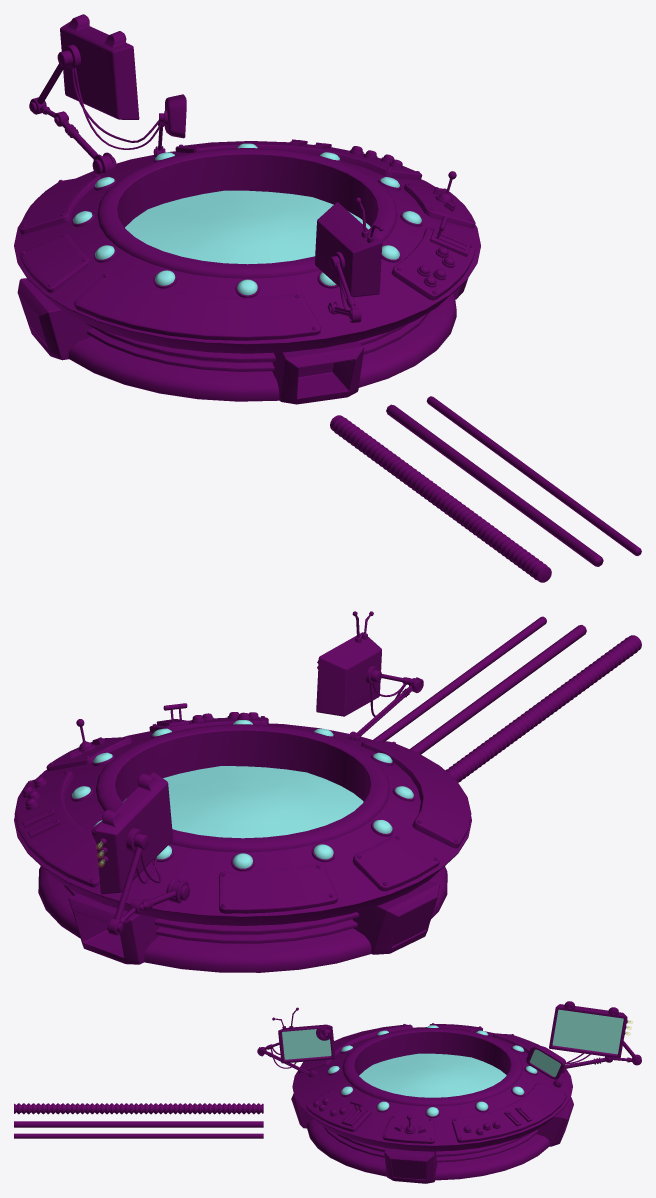
The model's file is holotable.fbx.
3 views of the same model, one above another, from view 1: azimuth 30°, elevation 25°; view 2: azimuth 150°, elevation 25°; view 3: azimuth 270°, elevation 25° (orthographic). The views are drawn at different scales.
Visible parts, largest first — view 1: hologram_console, hologram_console_center_light, monitor_02, ribbed_cable, monitor_01, medium_cable, small_cable, hologram_console_small_lights, monitor_03; view 2: hologram_console, hologram_console_center_light, monitor_02, ribbed_cable, monitor_01, medium_cable, small_cable, hologram_console_small_lights, arm; view 3: hologram_console, hologram_console_center_light, ribbed_cable, monitor_emission_03, medium_cable, small_cable, monitor_emission_01, monitor_02, hologram_console_small_lights, monitor_01, monitor_emission_02, monitor_03.
Boxes of the visible parts, bbox=[...] form: hologram_console: bbox=[14, 140, 480, 404]; hologram_console_center_light: bbox=[125, 190, 370, 264]; monitor_02: bbox=[57, 14, 139, 119]; ribbed_cable: bbox=[330, 415, 551, 582]; monitor_01: bbox=[314, 202, 382, 297]; medium_cable: bbox=[386, 404, 603, 566]; small_cable: bbox=[426, 396, 641, 555]; hologram_console_small_lights: bbox=[73, 143, 421, 295]; monitor_03: bbox=[159, 94, 186, 138]; hologram_console: bbox=[14, 716, 471, 972]; hologram_console_center_light: bbox=[123, 766, 363, 838]; monitor_02: bbox=[95, 772, 172, 894]; ribbed_cable: bbox=[445, 635, 641, 782]; monitor_01: bbox=[316, 632, 381, 716]; medium_cable: bbox=[410, 625, 586, 754]; small_cable: bbox=[373, 616, 546, 741]; hologram_console_small_lights: bbox=[72, 720, 413, 868]; arm: bbox=[106, 847, 142, 935]; hologram_console: bbox=[291, 1023, 573, 1183]; hologram_console_center_light: bbox=[359, 1053, 506, 1097]; ribbed_cable: bbox=[14, 1103, 263, 1114]; monitor_emission_03: bbox=[552, 1009, 623, 1054]; medium_cable: bbox=[14, 1121, 263, 1127]; small_cable: bbox=[14, 1133, 263, 1138]; monitor_emission_01: bbox=[282, 1029, 331, 1059]; monitor_02: bbox=[549, 1001, 627, 1058]; hologram_console_small_lights: bbox=[328, 1025, 537, 1116]; monitor_01: bbox=[278, 1024, 335, 1063]; monitor_emission_02: bbox=[530, 1049, 560, 1076]; monitor_03: bbox=[526, 1046, 565, 1079].
Bounding box in the file's own units: 400 × 191 × 888.
